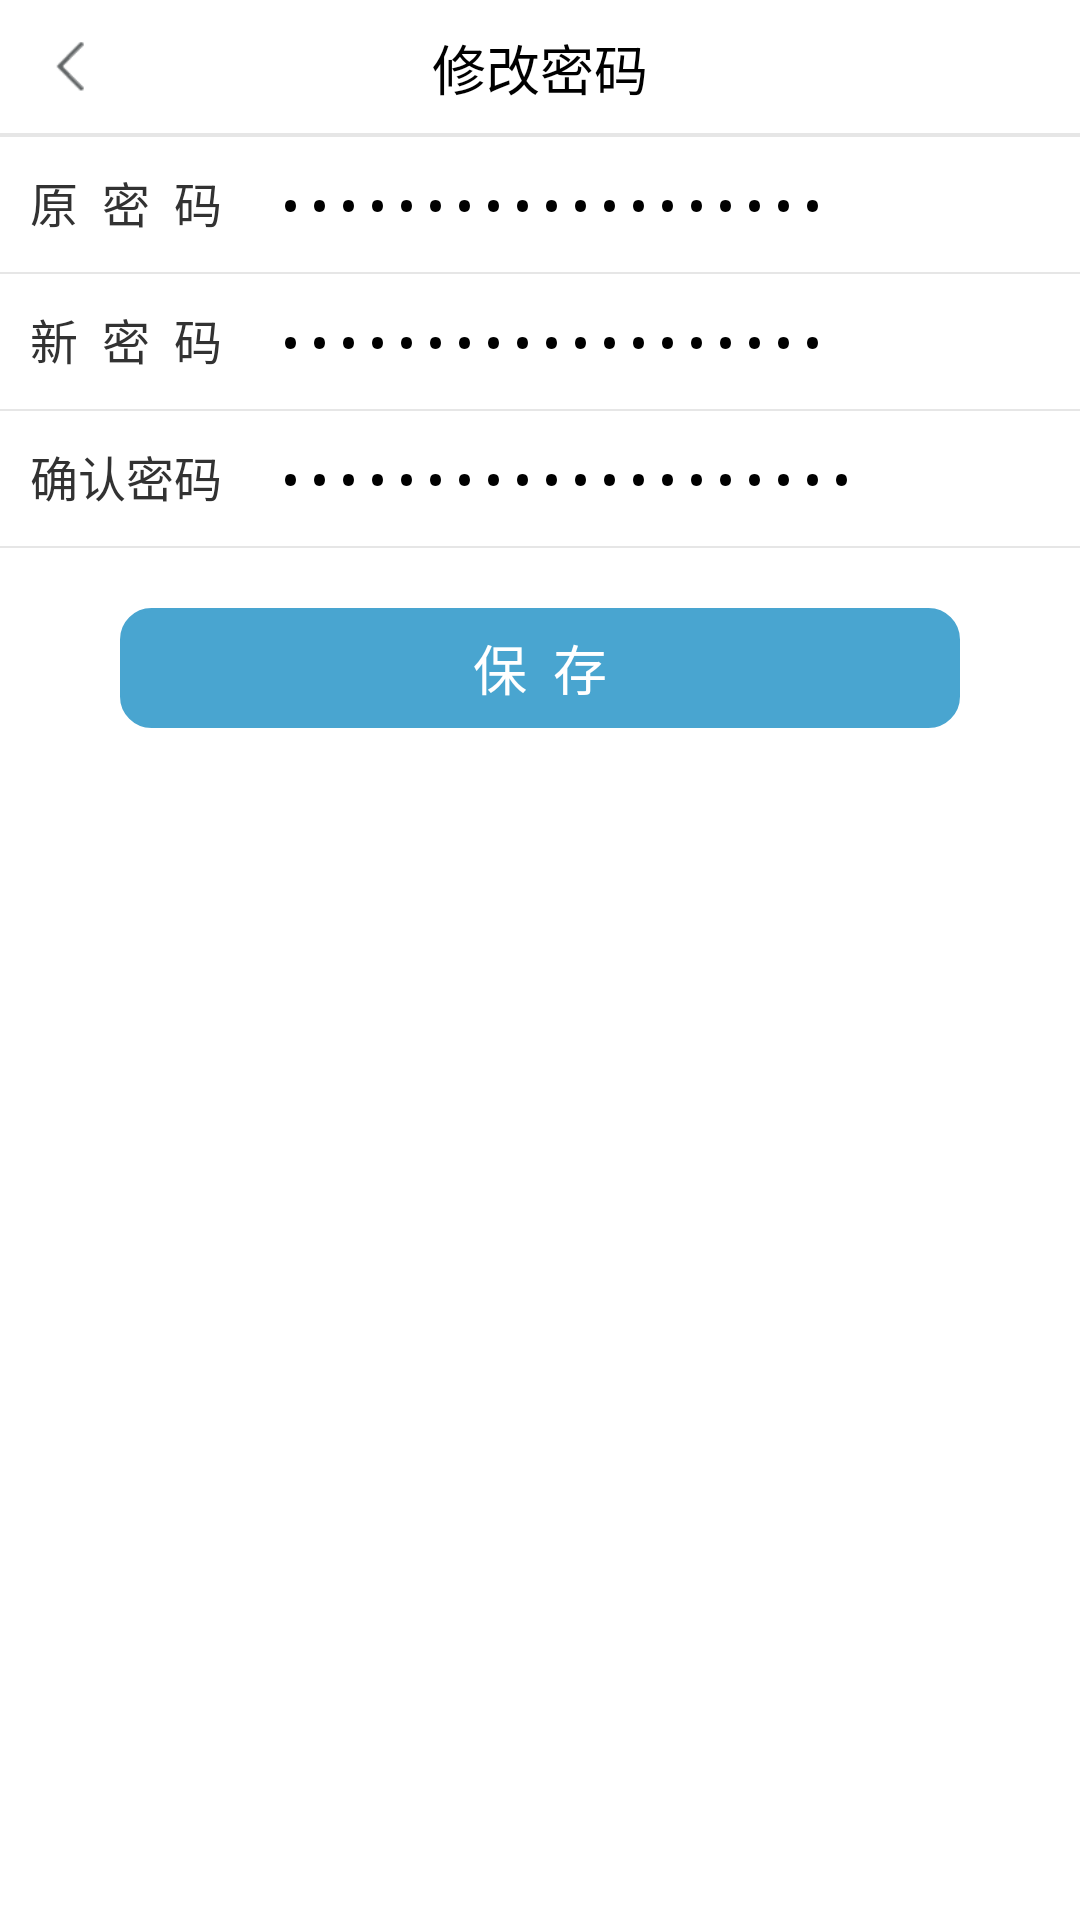

Icon bounding boxes for this 1080 x 1920 phone screenshot, format (x1, y1, x2, y2):
left arrows: (57, 42, 84, 91)
